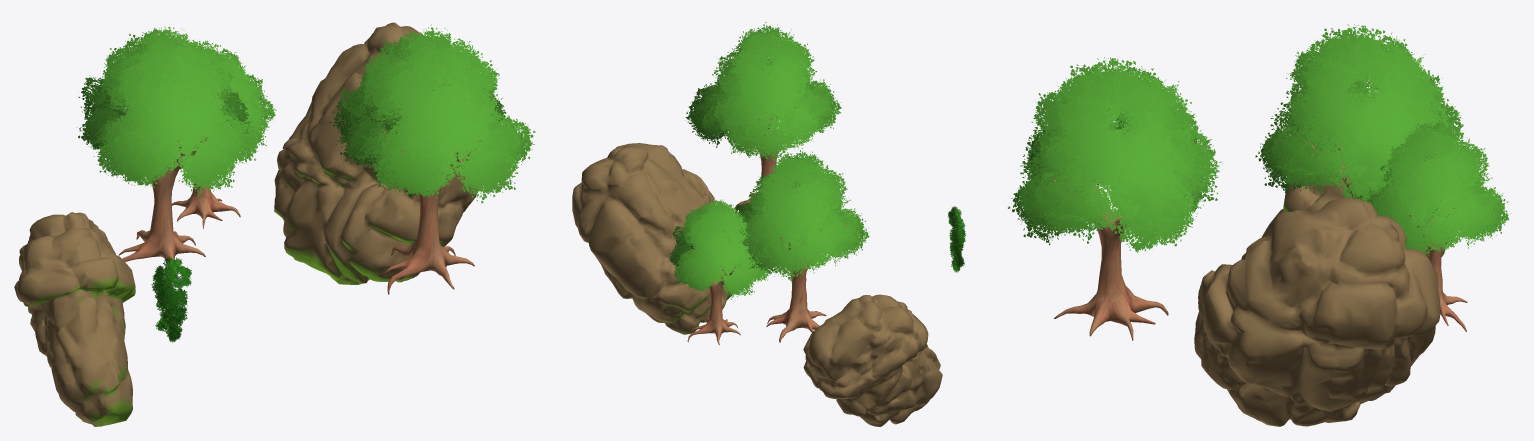
File: cell_x2_z-2_render.gltf
The picture shows the model from 3 angles, left to right: view 1: azimuth 30°, elevation 25°; view 2: azimuth 150°, elevation 25°; view 3: azimuth 270°, elevation 25°; orthographic projection. The views are drawn at different scales.
Visible parts, largest first — view 1: SM_ENV_tree_castle_01_LOD0.018, SM_ENV_tree_castle_01_LOD0.020, SM_ENV_cliff_castle_01_LOD0.009, SM_ENV_cliff_castle_02_LOD0.031, SM_ENV_tree_castle_01_LOD0.039, SM_ENV_bush_castle_08_LOD0.072; view 2: SM_ENV_cliff_castle_01_LOD0.009, SM_ENV_tree_castle_01_LOD0.018, SM_ENV_cliff_castle_02_LOD0.031, SM_ENV_tree_castle_01_LOD0.020, SM_ENV_tree_castle_01_LOD0.039, SM_ENV_bush_castle_08_LOD0.072; view 3: SM_ENV_cliff_castle_01_LOD0.009, SM_ENV_tree_castle_01_LOD0.018, SM_ENV_tree_castle_01_LOD0.020, SM_ENV_tree_castle_01_LOD0.039, SM_ENV_cliff_castle_02_LOD0.031.
Part boxes in pixels (box(x1,y1,x2,y2)): SM_ENV_tree_castle_01_LOD0.018: box(329, 24, 535, 294); SM_ENV_tree_castle_01_LOD0.020: box(76, 26, 261, 261); SM_ENV_cliff_castle_01_LOD0.009: box(274, 22, 477, 284); SM_ENV_cliff_castle_02_LOD0.031: box(14, 212, 135, 426); SM_ENV_tree_castle_01_LOD0.039: box(171, 39, 276, 228); SM_ENV_bush_castle_08_LOD0.072: box(151, 256, 191, 342); SM_ENV_cliff_castle_01_LOD0.009: box(572, 143, 732, 334); SM_ENV_tree_castle_01_LOD0.018: box(685, 22, 841, 214); SM_ENV_cliff_castle_02_LOD0.031: box(803, 294, 942, 426); SM_ENV_tree_castle_01_LOD0.020: box(734, 148, 869, 342); SM_ENV_tree_castle_01_LOD0.039: box(667, 199, 769, 345); SM_ENV_bush_castle_08_LOD0.072: box(948, 206, 965, 272); SM_ENV_cliff_castle_01_LOD0.009: box(1194, 198, 1440, 426); SM_ENV_tree_castle_01_LOD0.018: box(1008, 57, 1222, 340); SM_ENV_tree_castle_01_LOD0.020: box(1255, 24, 1463, 205); SM_ENV_tree_castle_01_LOD0.039: box(1352, 118, 1508, 331); SM_ENV_cliff_castle_02_LOD0.031: box(1241, 159, 1449, 259).
Bounding box in the file's own units: 36.15 × 30.86 × 33.39.
Materials: 4 (3 with a texture image).
